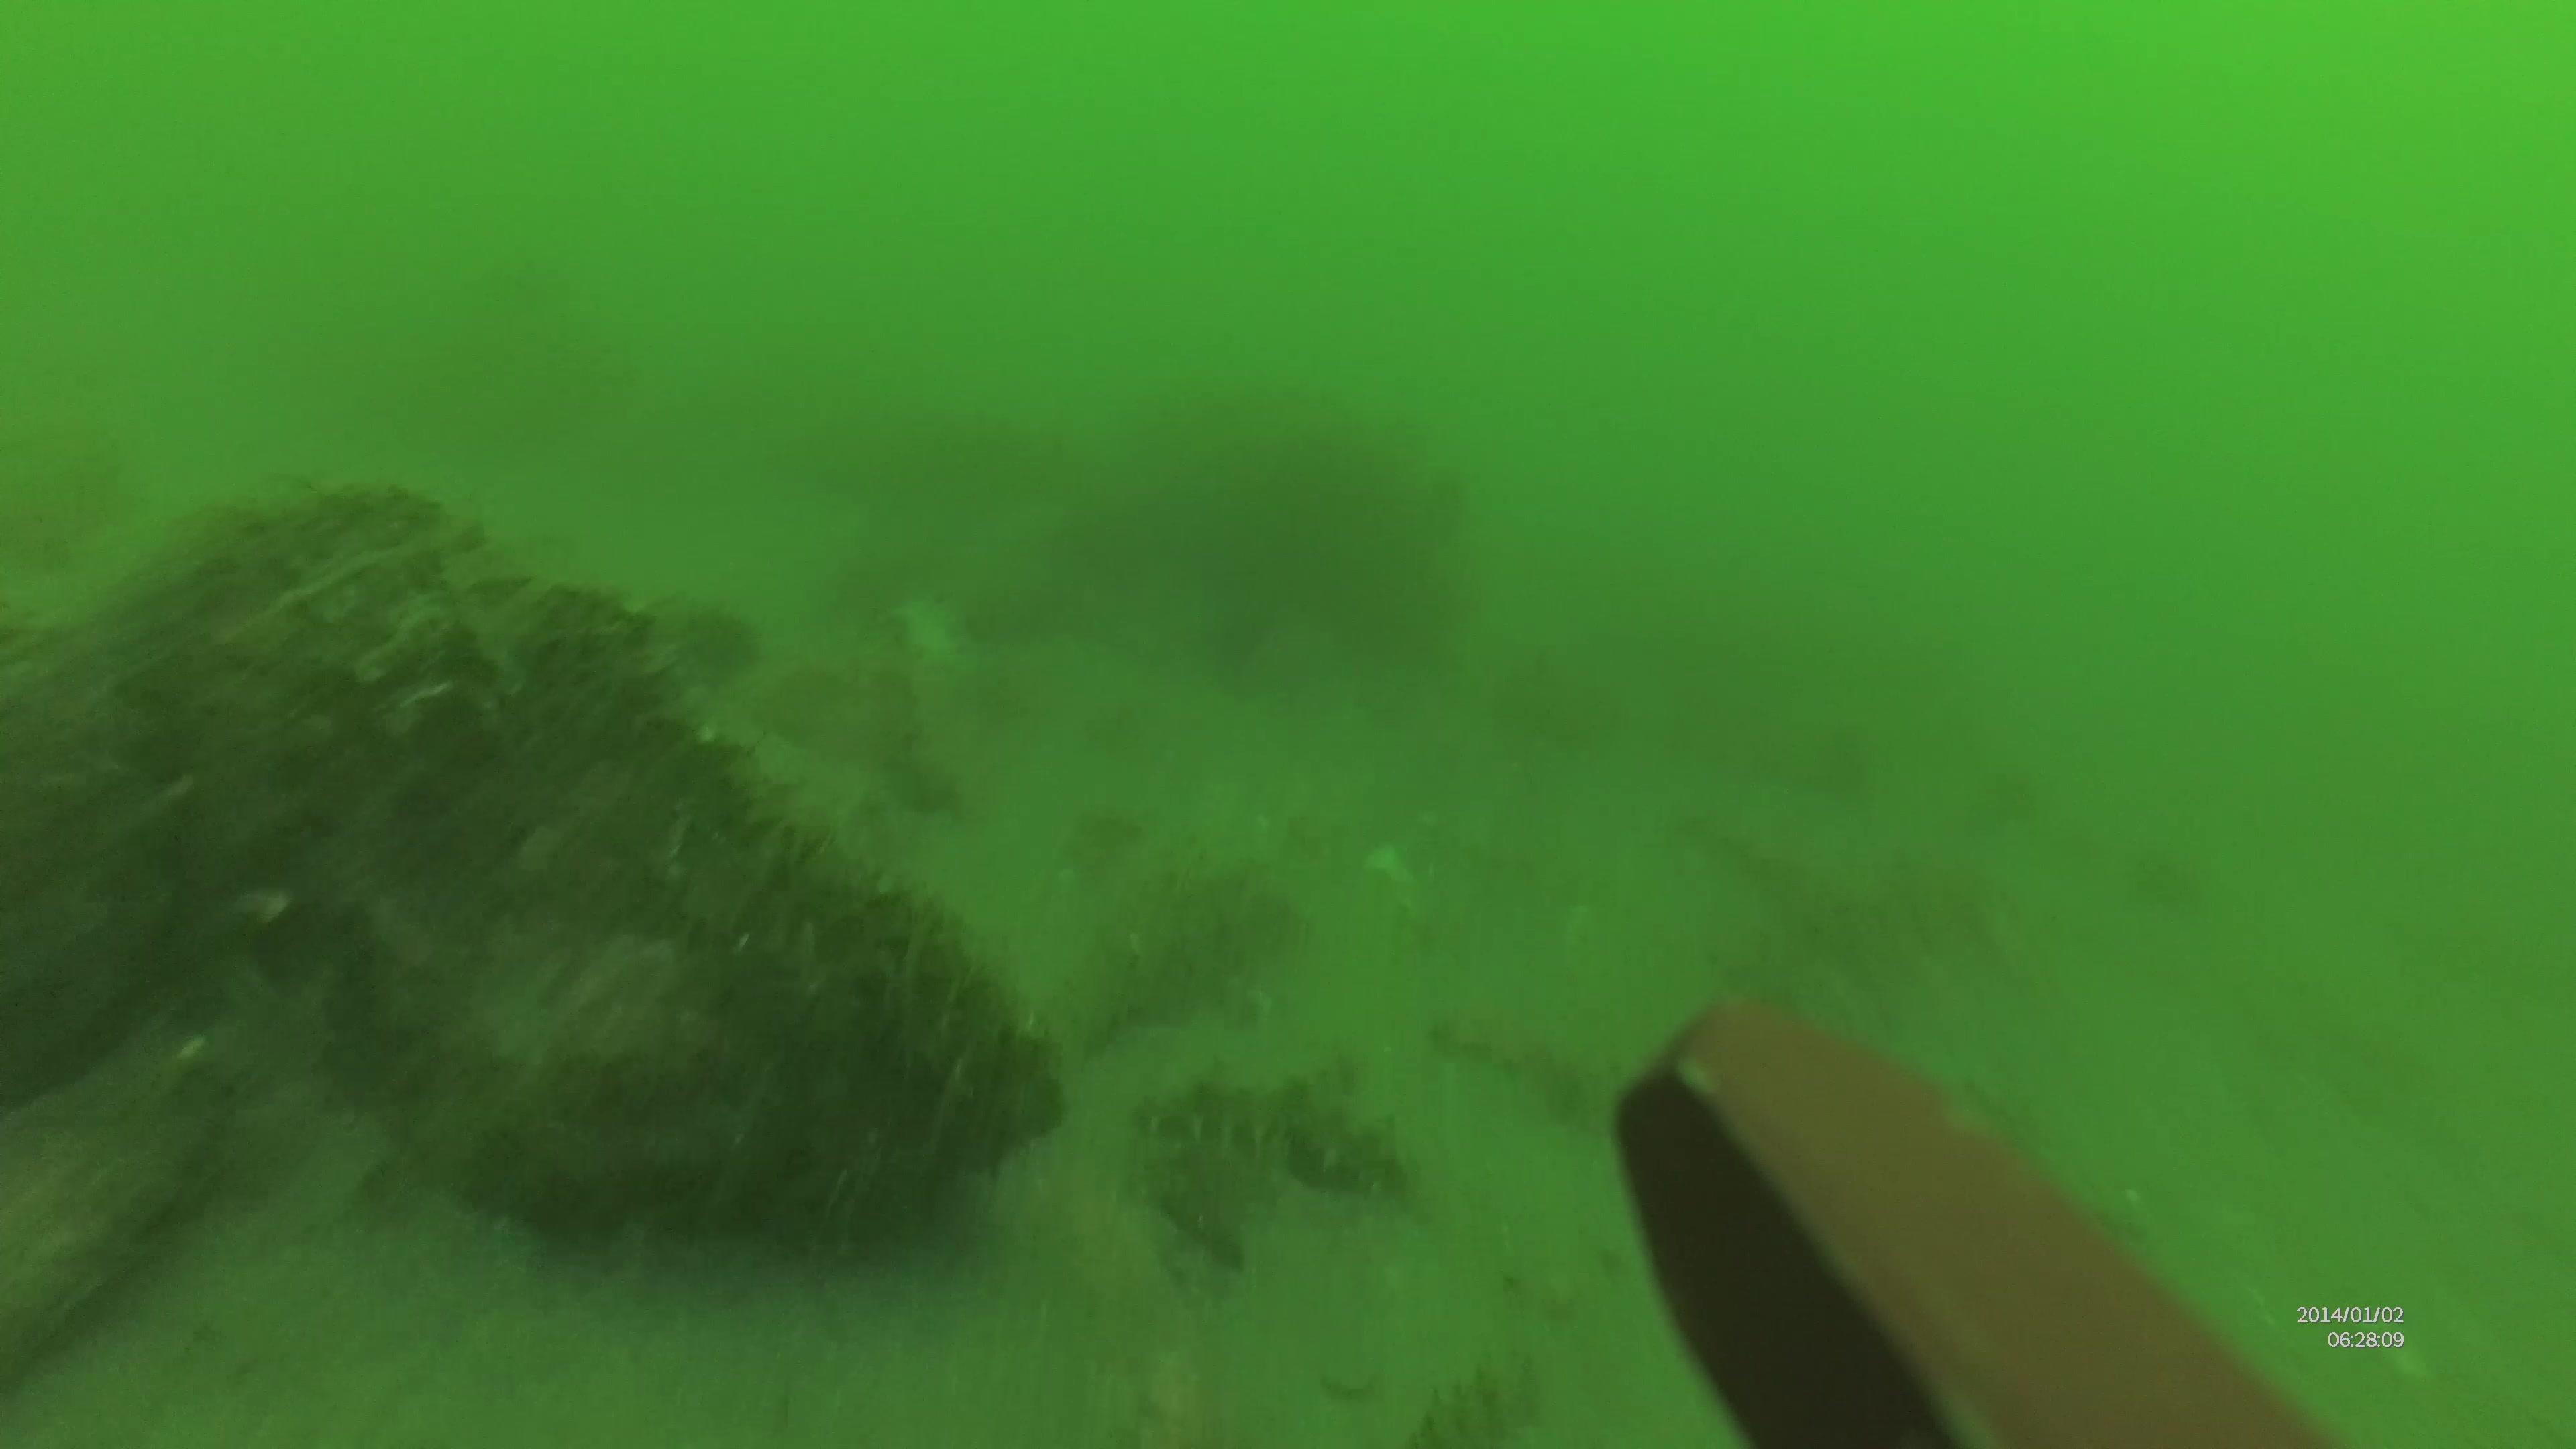holothurian: (1123, 1063, 1421, 1200), (1405, 1357, 1553, 1449)
